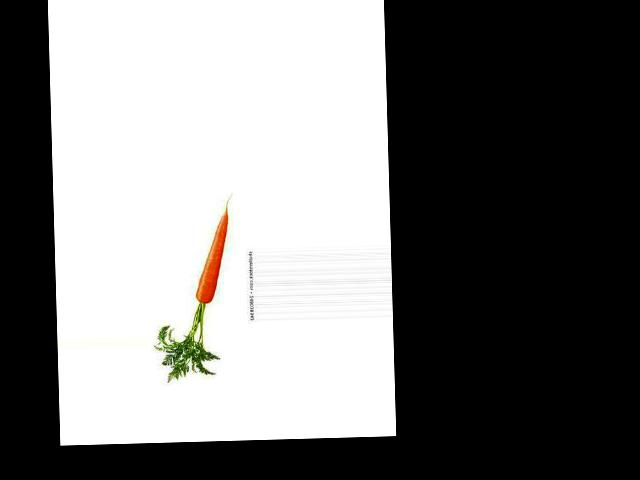carrot: (191, 206, 236, 305)
